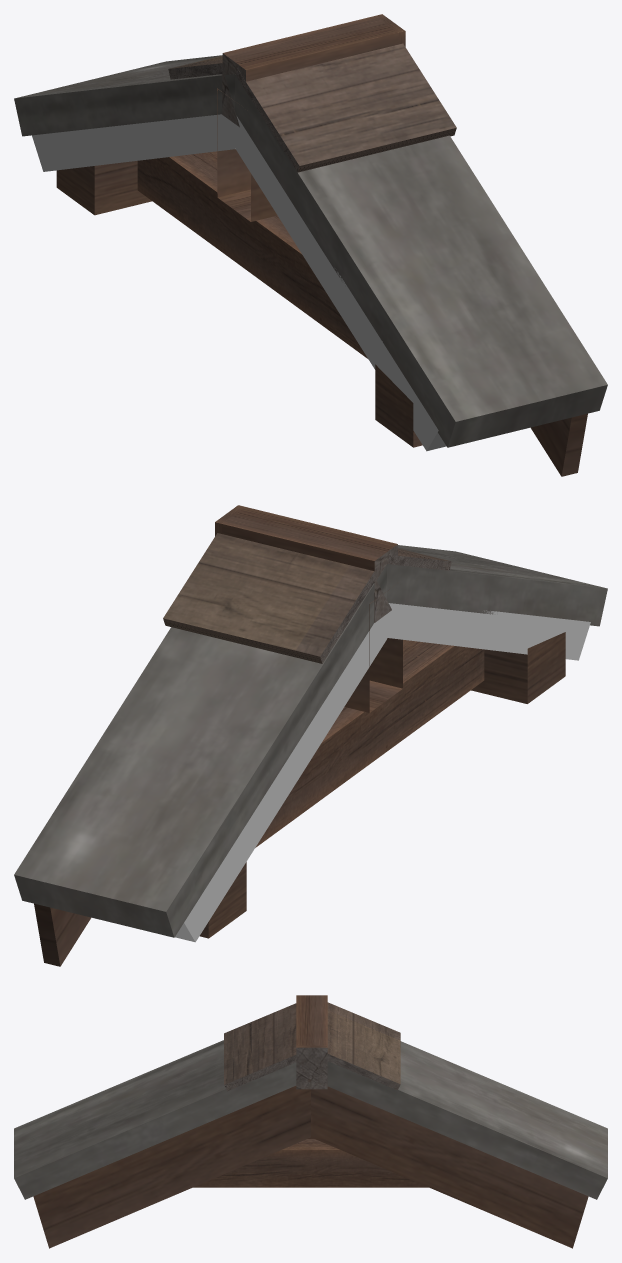
Rendered from fence_top2a_end.fbx.
3 views of the same model, one above another, from view 1: azimuth 30°, elevation 25°; view 2: azimuth 150°, elevation 25°; view 3: azimuth 270°, elevation 25° (orthographic). The views are drawn at different scales.
Visible parts, largest first — view 1: fence_top2a_end; view 2: fence_top2a_end; view 3: fence_top2a_end.
Boxes of the visible parts, left/top/right/bottom form: fence_top2a_end: left=14, top=14, right=607, bottom=476; fence_top2a_end: left=14, top=505, right=607, bottom=966; fence_top2a_end: left=14, top=995, right=607, bottom=1248.
Bounding box in the file's own units: 31.57 × 57.33 × 151.
